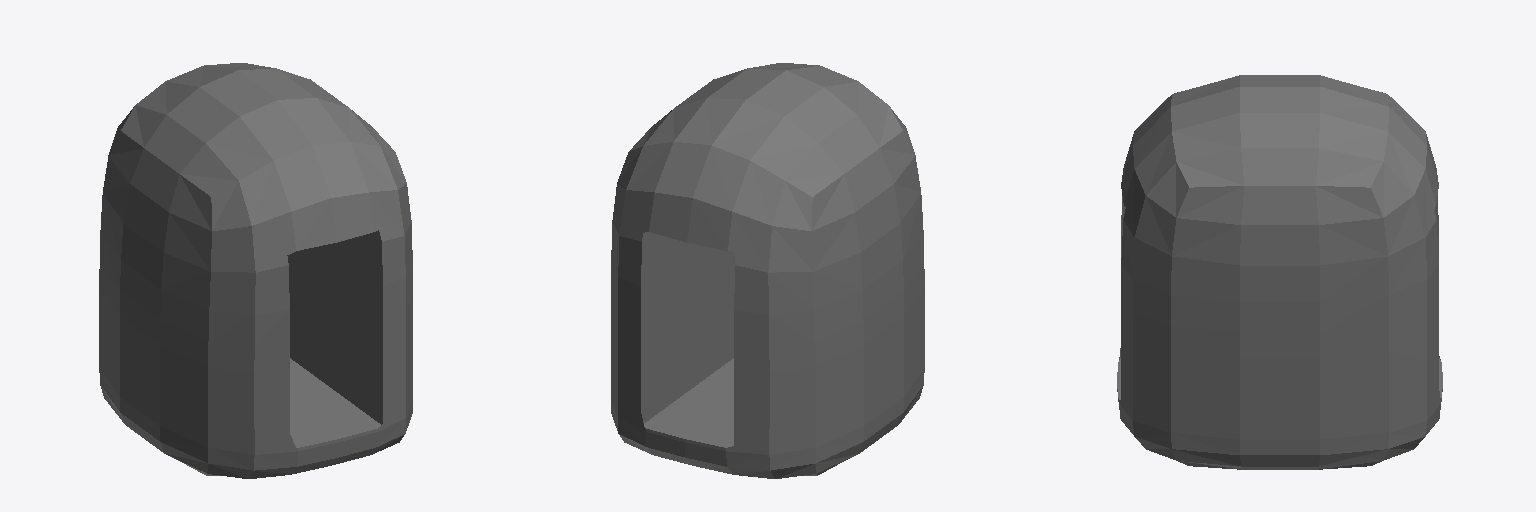
The model's file is Door_Frame.obj.
3 views of the same model, side by side, from view 1: azimuth 30°, elevation 25°; view 2: azimuth 150°, elevation 25°; view 3: azimuth 270°, elevation 25° (orthographic).
Visible parts, largest first — view 1: Door_Frame.obj; view 2: Door_Frame.obj; view 3: Door_Frame.obj.
Part boxes in pixels (x1,y1,x2,y2): Door_Frame.obj: (99,63,412,478); Door_Frame.obj: (611,63,924,478); Door_Frame.obj: (1117,75,1442,469).
Bounding box in the file's own units: 637 × 892 × 775.